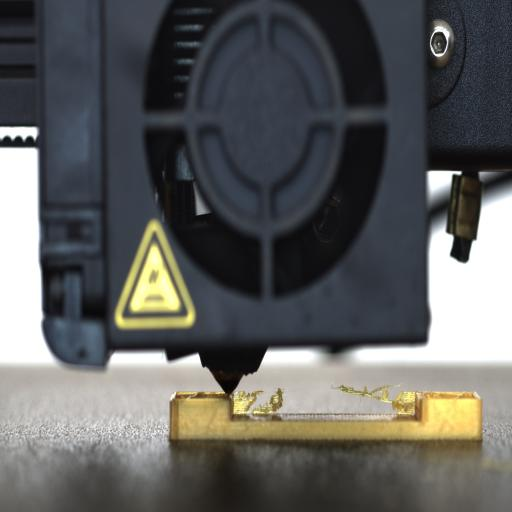stringing: (332, 384, 418, 416), (234, 382, 286, 417)
